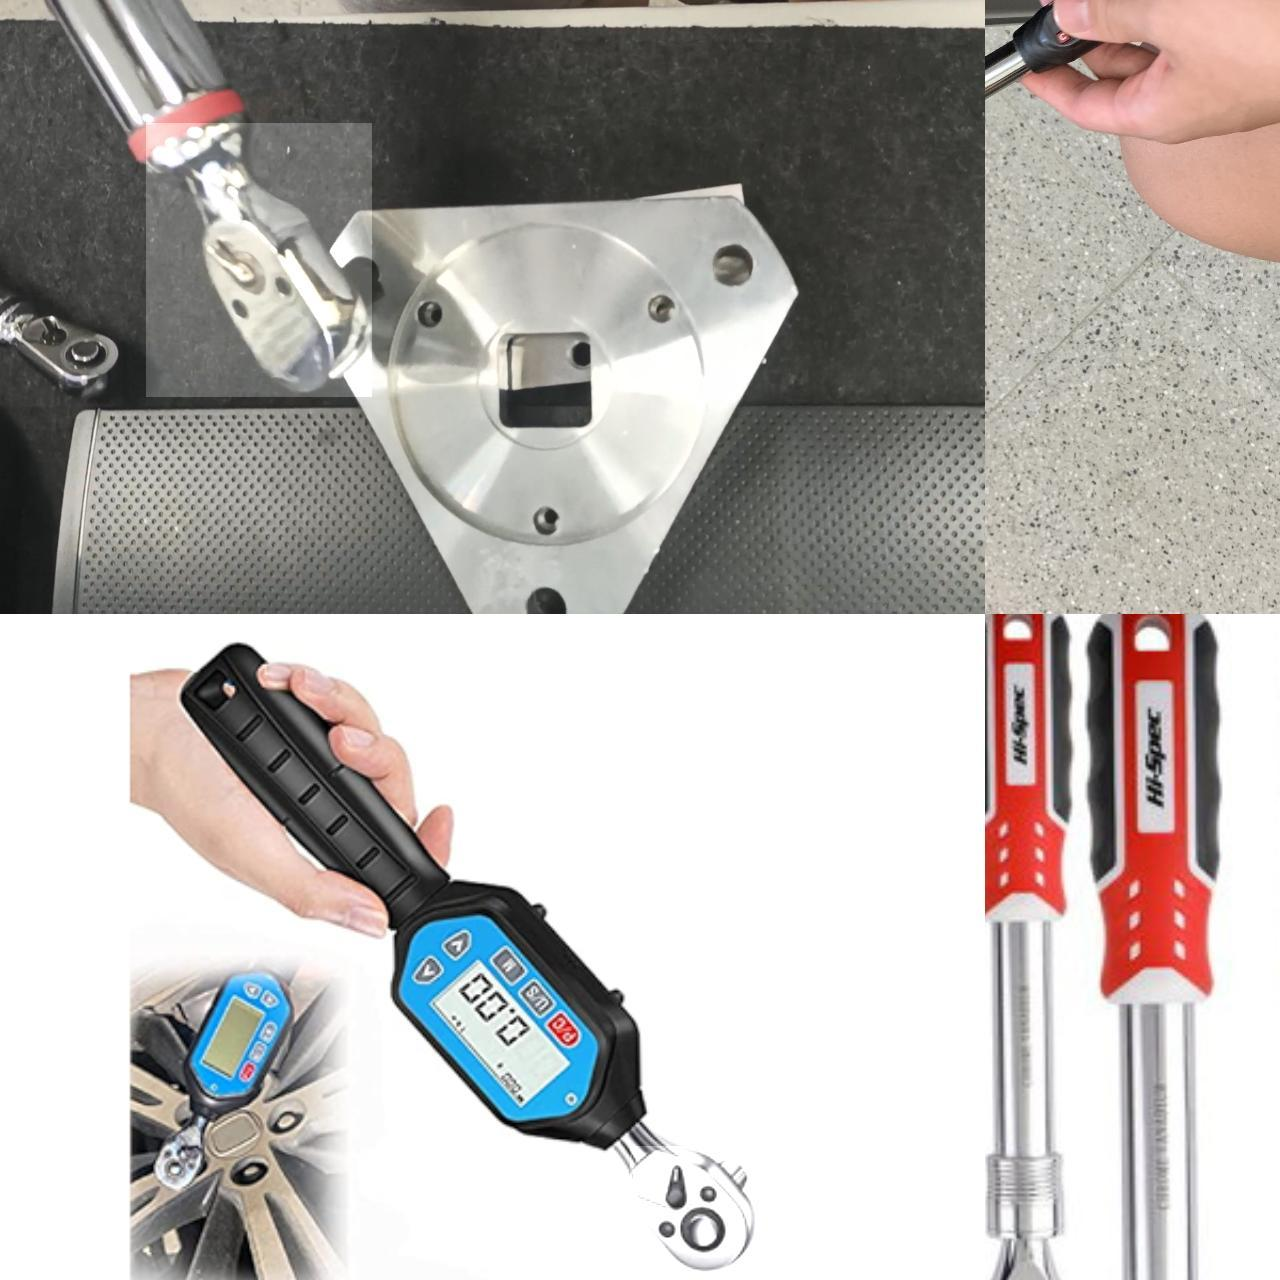Tool: (147, 123, 372, 397), (629, 1146, 762, 1278), (9, 295, 123, 407)
